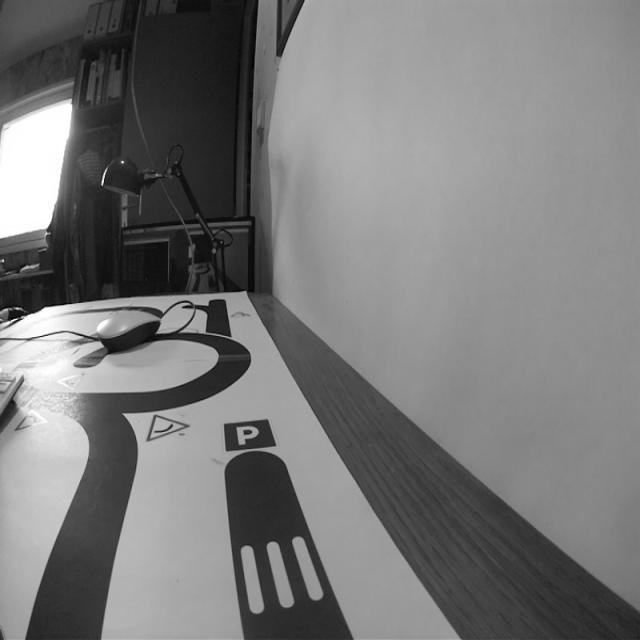Parking: (221, 416, 278, 452)
zebracross: (229, 526, 332, 618)
